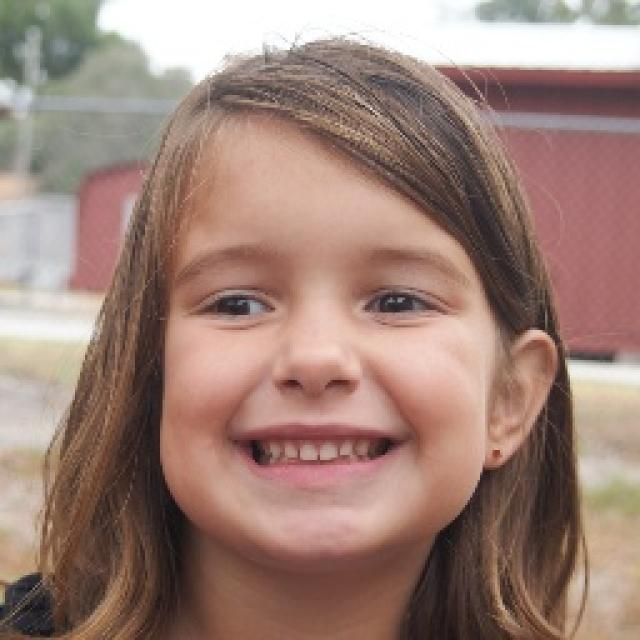earlobe: (481, 430, 510, 471)
eye: (191, 286, 278, 324), (360, 286, 442, 322)
nose: (264, 371, 364, 427)
wholeear: (482, 330, 559, 471)
